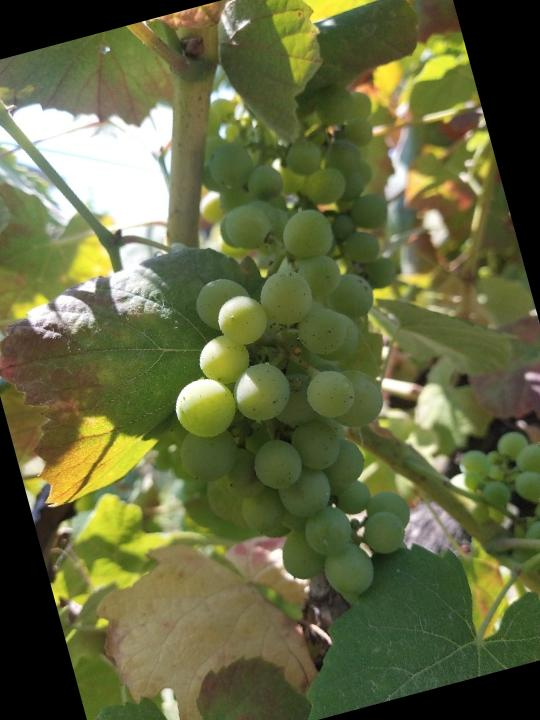grape: (130, 195, 452, 634)
